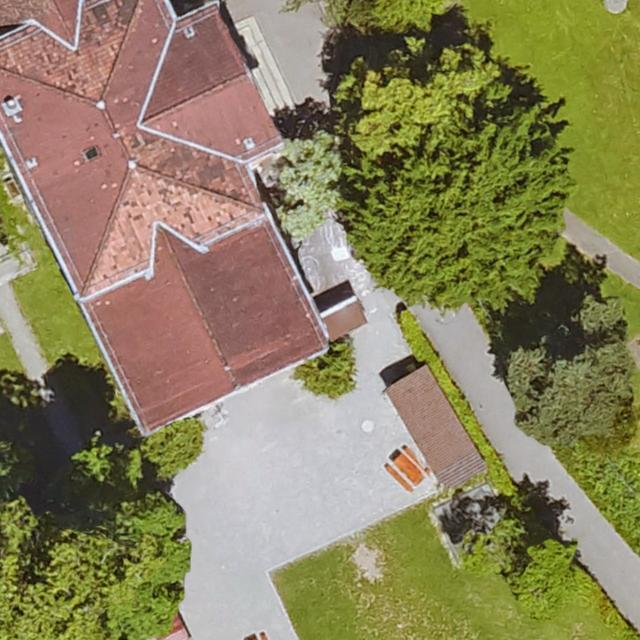tree: (343, 85, 561, 312), (0, 497, 183, 640), (514, 304, 640, 437), (339, 48, 495, 143), (279, 126, 347, 229), (128, 415, 196, 476), (520, 542, 576, 614), (298, 336, 354, 393), (458, 517, 510, 575), (285, 0, 450, 17)
